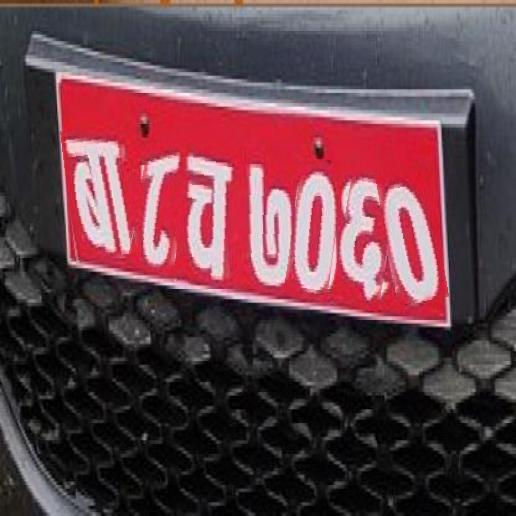0: (381, 167, 444, 304), (288, 158, 342, 300)
6: (335, 168, 396, 311)
7: (241, 159, 296, 290)
8: (132, 140, 189, 273)
ba: (64, 126, 133, 263)
cha: (177, 144, 239, 286)
